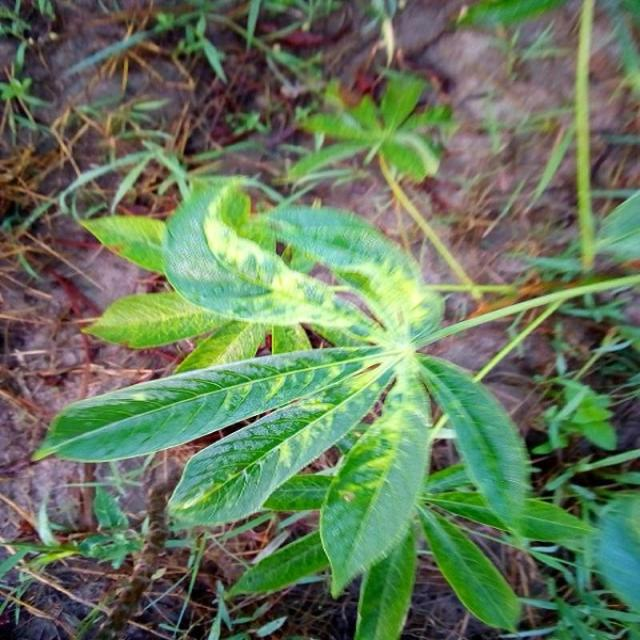cassava leaf: (32, 170, 622, 636)
